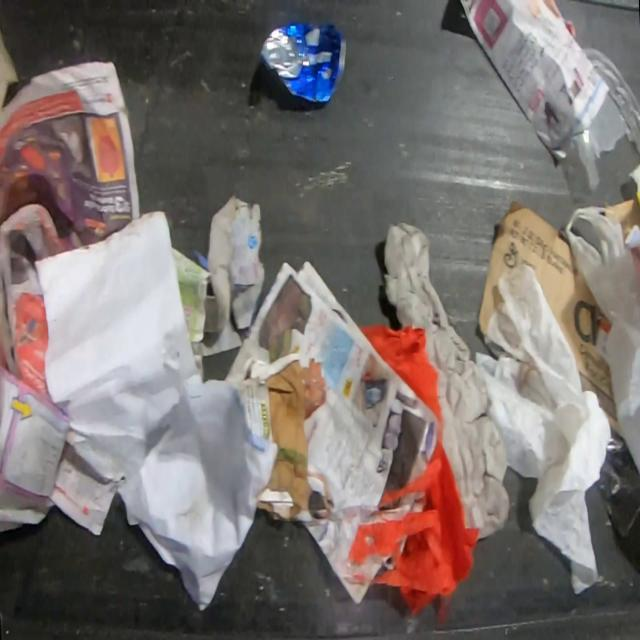cardboard: (381, 218, 512, 543), (477, 197, 621, 436), (248, 346, 333, 523), (190, 193, 267, 358), (0, 26, 20, 109), (602, 196, 640, 238)
metal: (258, 19, 347, 104), (595, 425, 640, 539)
rigid_plastic: (567, 45, 640, 192)
soft_plastic: (473, 263, 612, 595), (564, 205, 640, 474)
